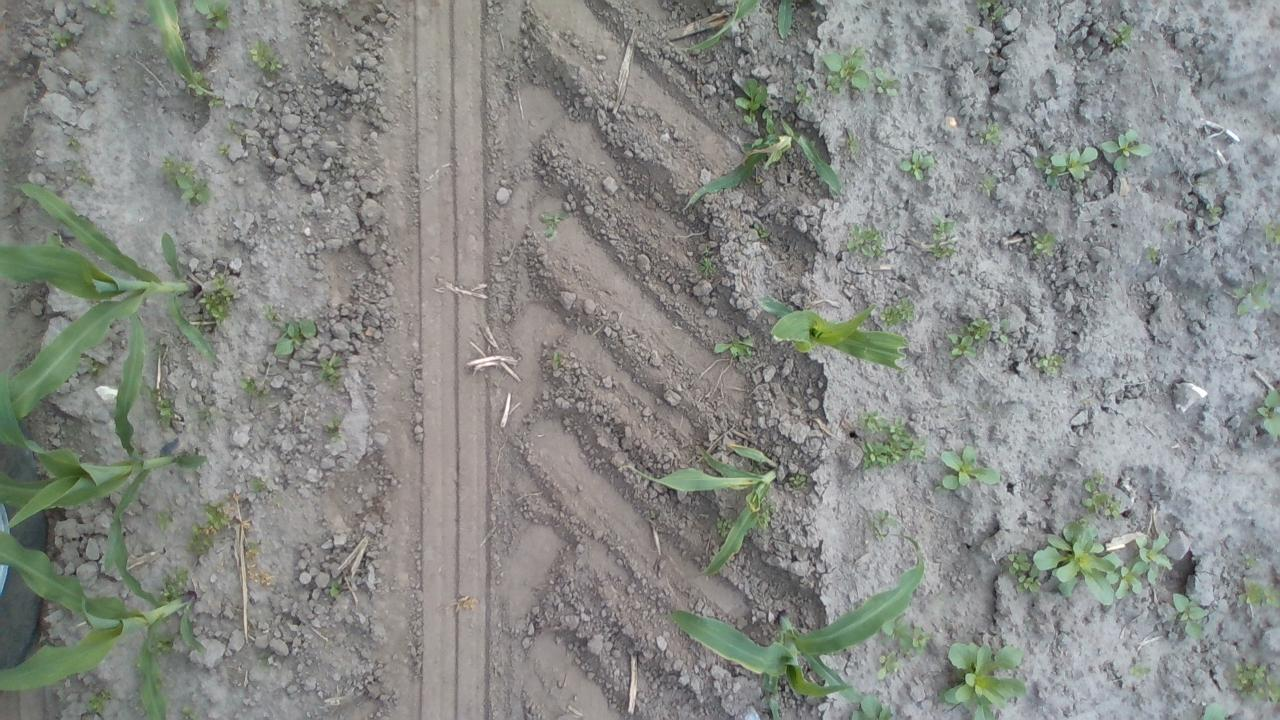Maize: (0, 184, 233, 460), (663, 533, 929, 720), (1, 353, 216, 564), (0, 505, 197, 717), (628, 446, 790, 569), (682, 118, 858, 216), (761, 292, 909, 383), (152, 0, 234, 106)
Weeds: (1008, 522, 1120, 618), (948, 638, 1028, 718), (1107, 533, 1176, 600), (819, 53, 900, 110), (860, 416, 924, 474), (158, 149, 214, 209), (266, 304, 320, 362), (932, 446, 998, 492), (944, 310, 1000, 360), (878, 626, 932, 676), (188, 499, 232, 560), (842, 218, 892, 269), (1168, 588, 1212, 643), (1228, 266, 1272, 318), (1034, 147, 1092, 186), (728, 72, 766, 128), (1084, 468, 1124, 520), (1228, 660, 1279, 700), (896, 146, 938, 190), (928, 217, 966, 265), (1099, 130, 1139, 174), (1257, 378, 1280, 448), (844, 692, 901, 720), (1242, 574, 1280, 614), (712, 334, 758, 366), (879, 292, 916, 330), (539, 203, 574, 243), (196, 4, 237, 38), (246, 45, 289, 75), (58, 160, 94, 194), (1026, 228, 1062, 258), (324, 413, 352, 448), (317, 356, 351, 384), (1112, 20, 1136, 59), (973, 0, 1007, 26), (697, 246, 717, 284), (240, 372, 266, 401), (86, 692, 120, 714), (156, 397, 182, 424), (980, 123, 1006, 150), (1160, 211, 1180, 246), (49, 27, 77, 52), (1036, 348, 1060, 377), (93, 0, 122, 24), (1130, 659, 1155, 685), (205, 301, 237, 320), (324, 578, 348, 600), (547, 348, 568, 372), (1204, 203, 1224, 227), (1265, 222, 1280, 252), (215, 135, 232, 159), (62, 130, 82, 149), (1143, 250, 1161, 266)
